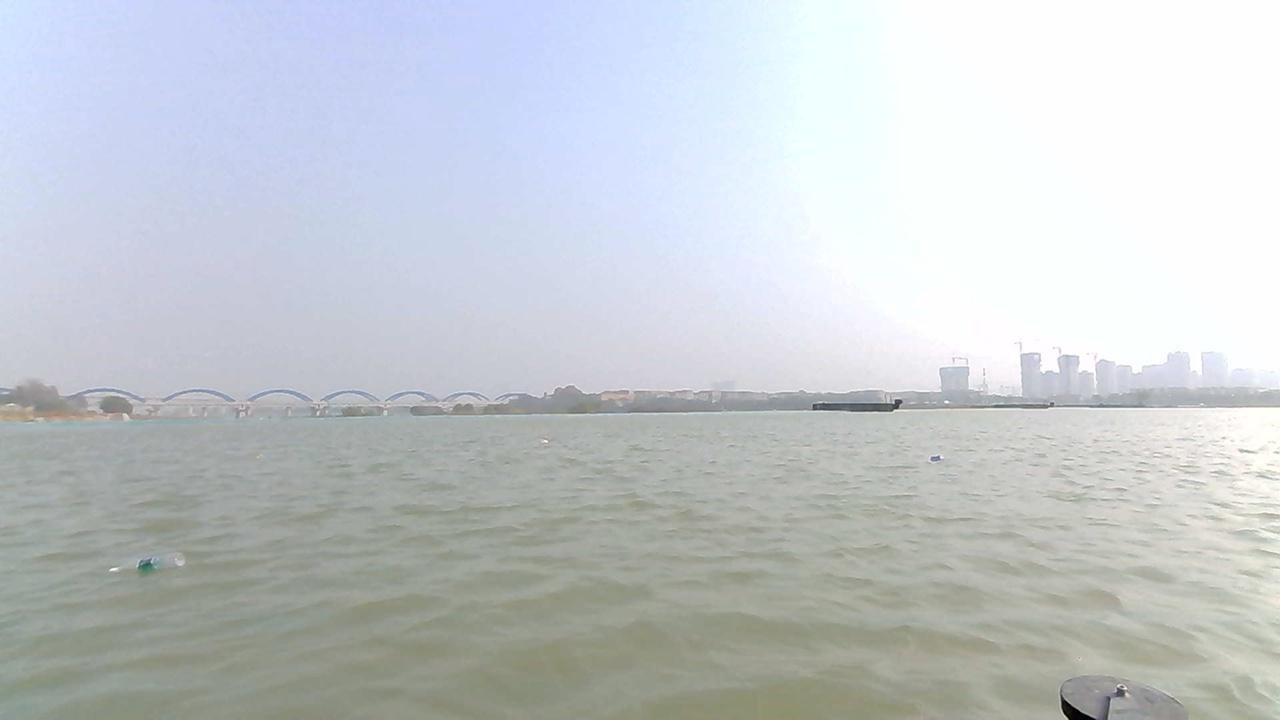bottle: (109, 550, 186, 572), (929, 454, 941, 460)
